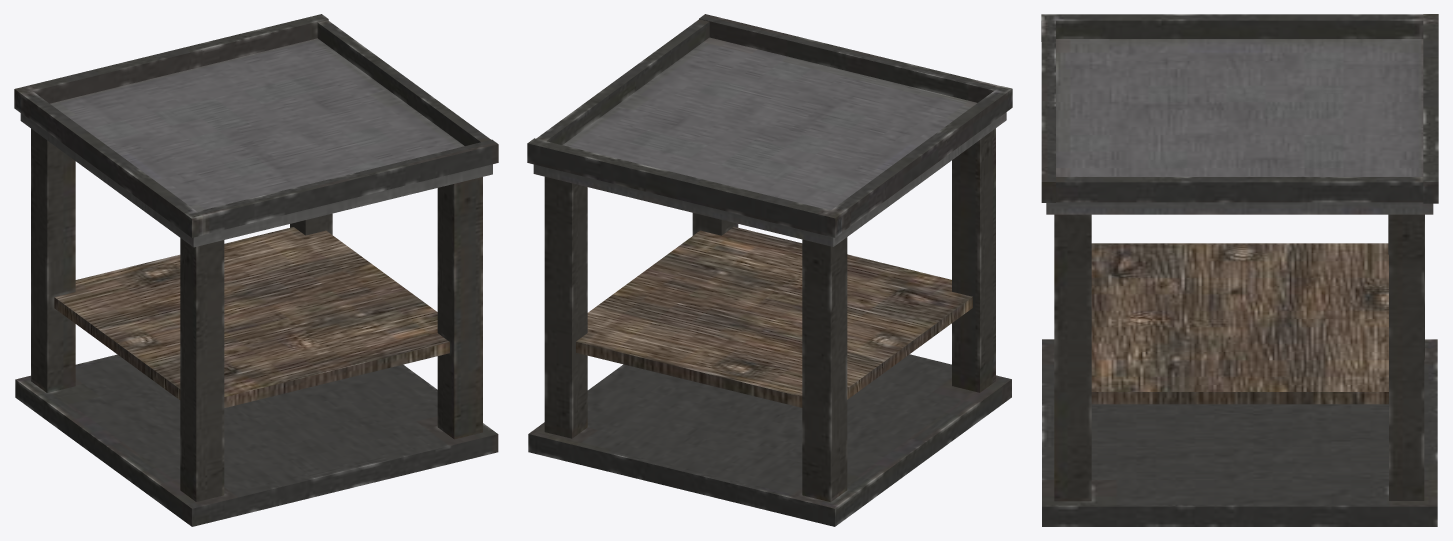
File: feDepot.glb
3 renders of one model, left to right at view 1: azimuth 30°, elevation 25°; view 2: azimuth 150°, elevation 25°; view 3: azimuth 270°, elevation 25°, orthographic. The views are drawn at different scales.
Parts seen in each view (by area): view 1: feDepot_Base; view 2: feDepot_Base; view 3: feDepot_Base.
Boxes of the visible parts, x1=… form: feDepot_Base: x1=14, y1=14, x2=498, y2=526; feDepot_Base: x1=527, y1=14, x2=1012, y2=526; feDepot_Base: x1=1041, y1=14, x2=1438, y2=526.
Bounding box in the file's own units: 0.9048 × 0.868 × 0.9042.
Materials: 1 (1 with a texture image).
